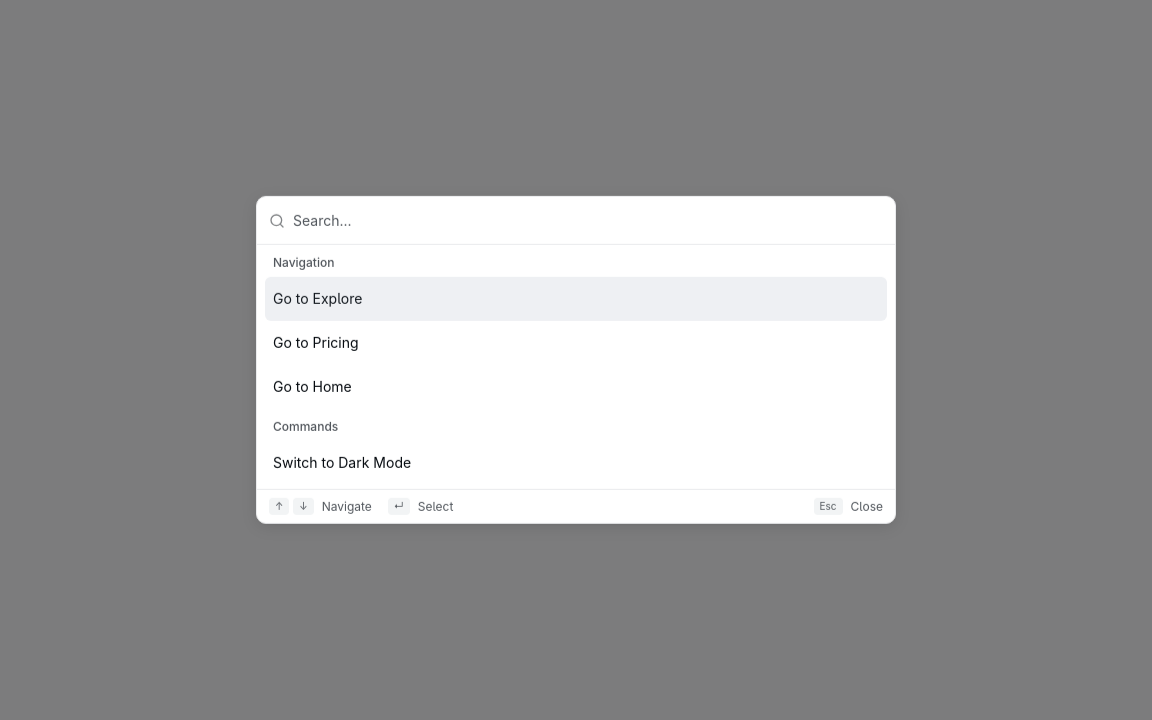
Test: GlobalSearchDialog › No results display › shows no-results message when query yields empty results
Type "nonexistent" into the dropdown with placeholder "Search..." at (588, 220), box [293, 196, 883, 244]
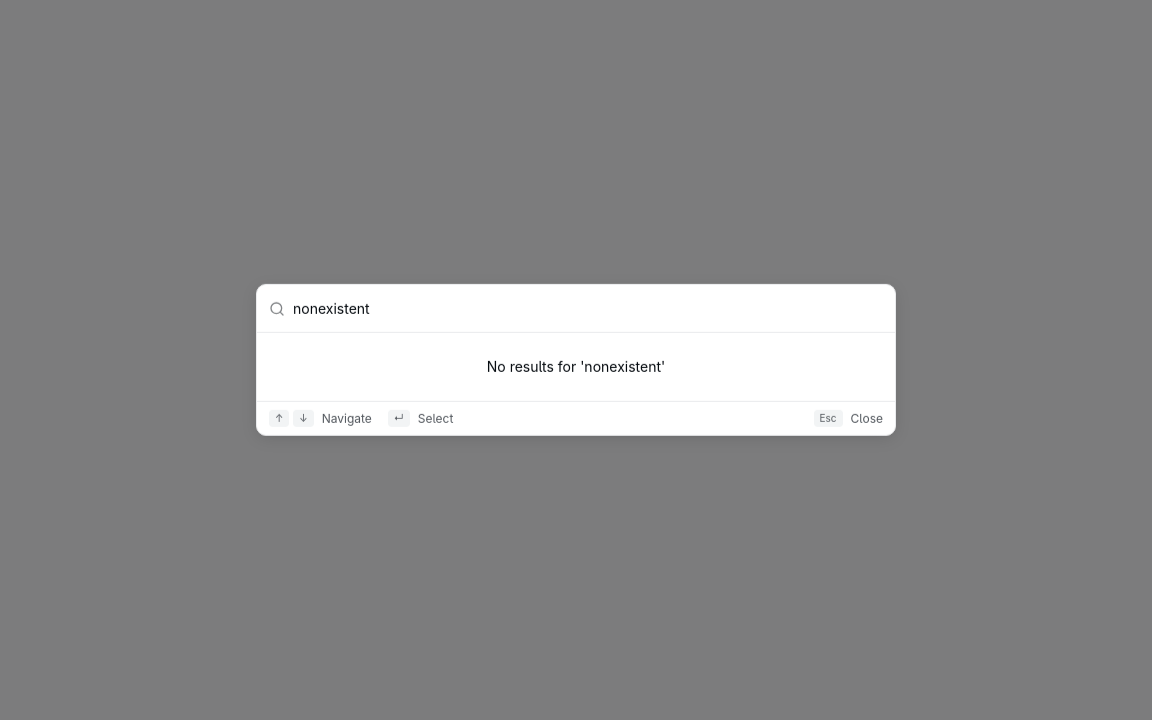
Now the text "No results for 'nonexistent'" is shown, box [487, 358, 665, 375]
